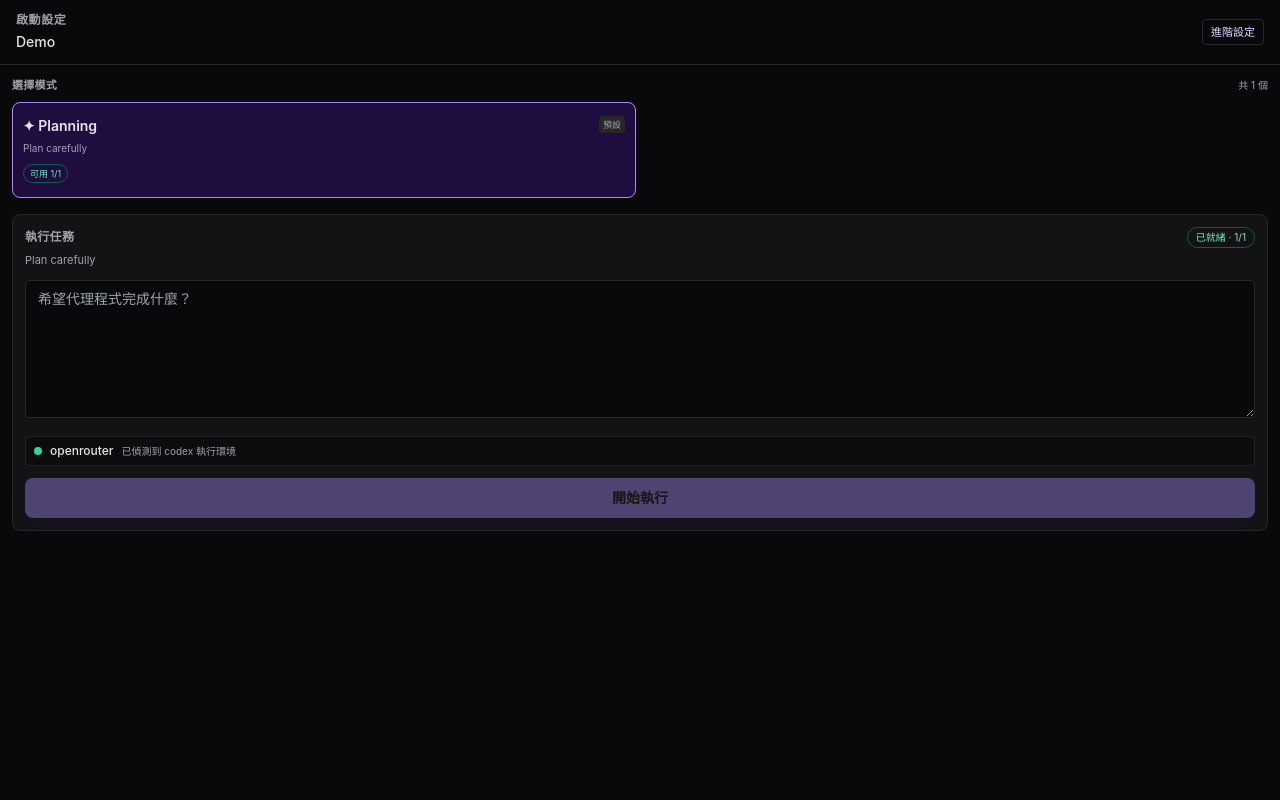
WorkflowPanel › labels the OpenRouter model-then-version flow in Traditional Chinese
What coordinates should you click on to do the following:
click the button "進階設定"
I would click on:
 (1233, 32)
Its box is left=1202, top=19, right=1264, bottom=45.
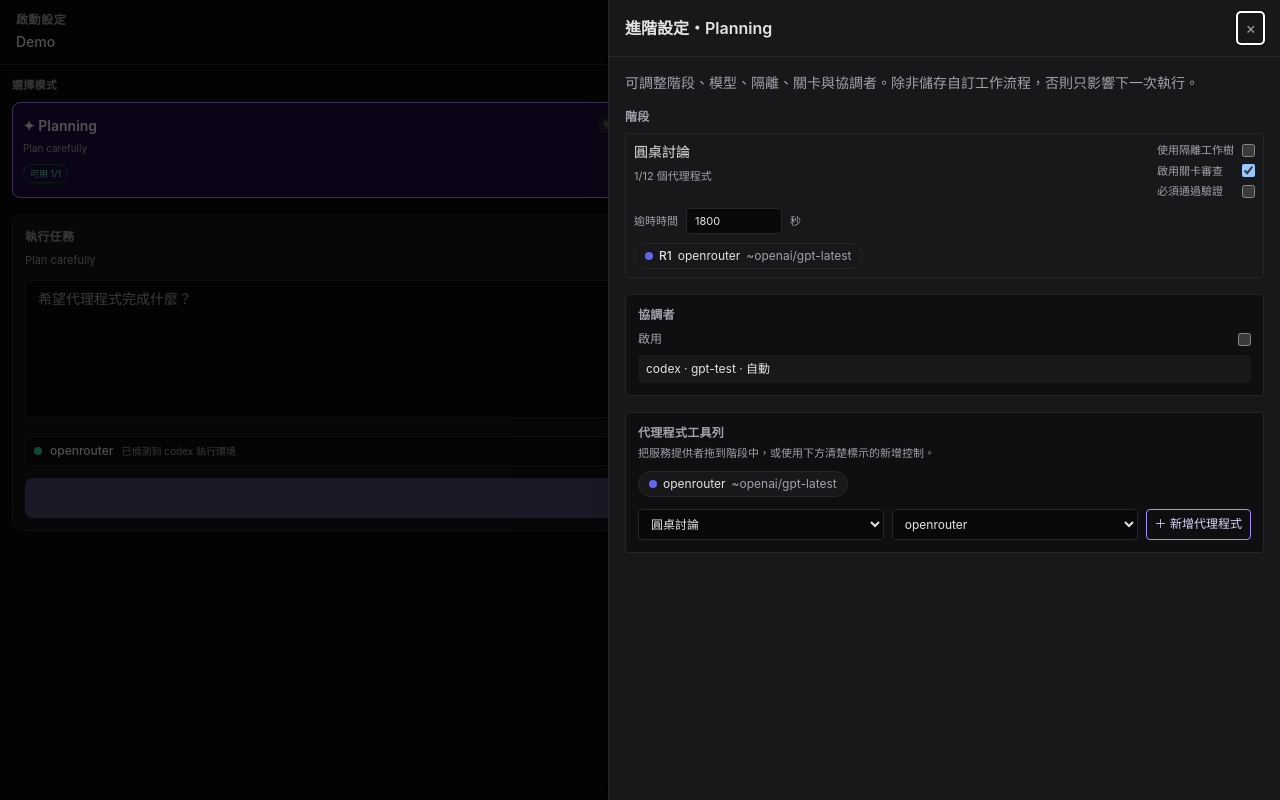
What coordinates should you click on to do the following:
click the button "R1 openrouter ~openai/gpt-latest"
I would click on:
 (748, 256)
Its box is left=634, top=242, right=862, bottom=269.
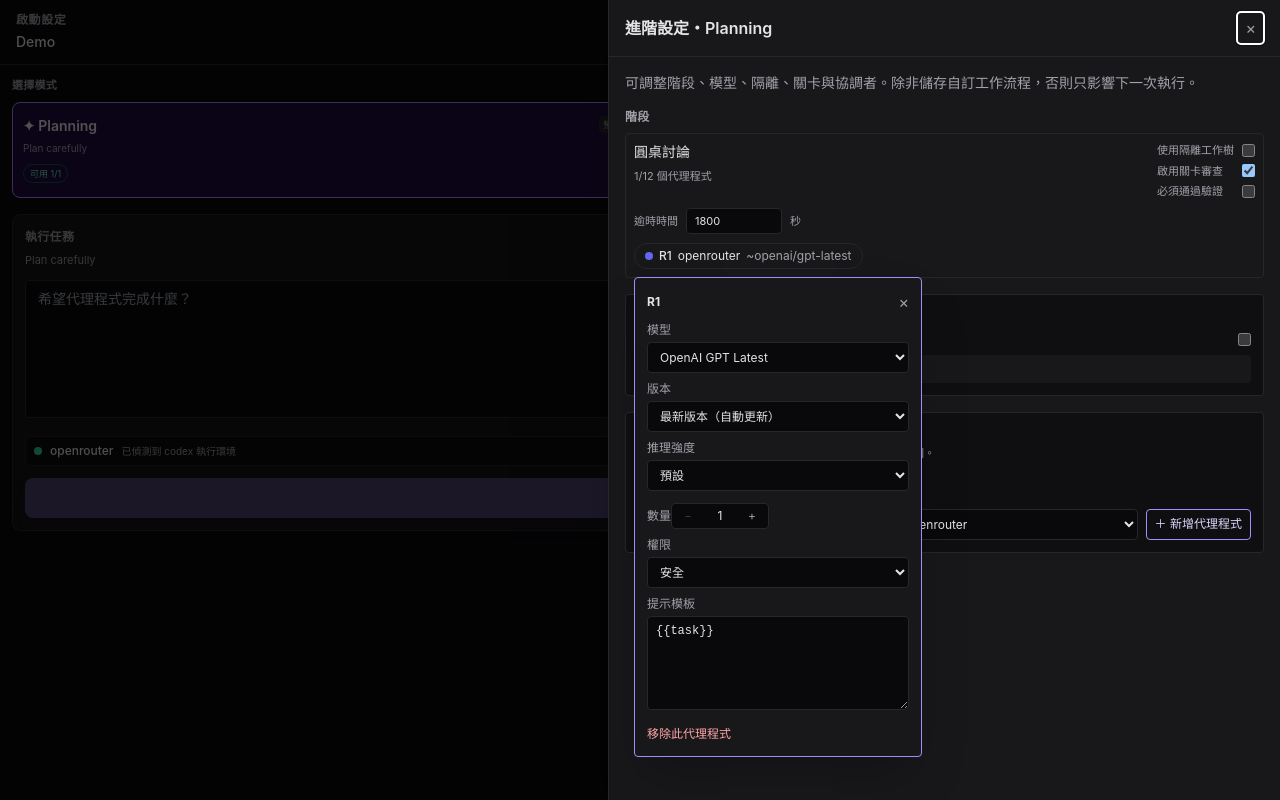
expect the dropdown labelled "模型" is shown: met, box left=647, top=342, right=909, bottom=373
expect the dropdown labelled "版本" is shown: met, box left=647, top=401, right=909, bottom=432
